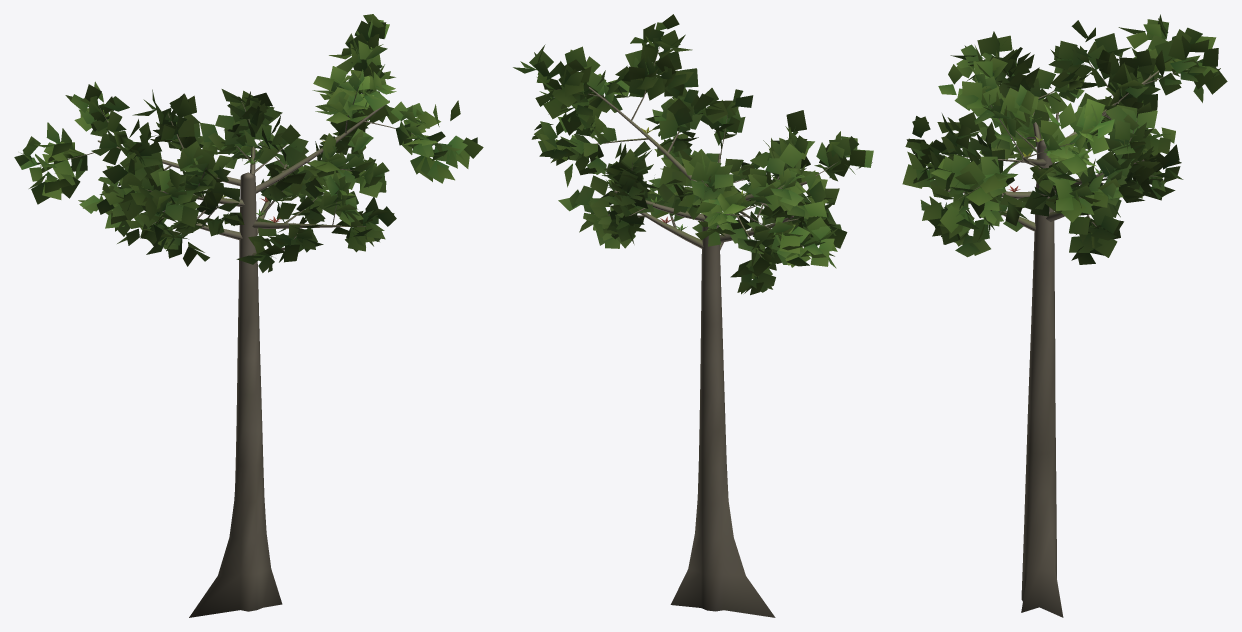
File: emergent-b.lod1.glb
The picture shows the model from 3 angles, left to right: view 1: azimuth 30°, elevation 25°; view 2: azimuth 150°, elevation 25°; view 3: azimuth 270°, elevation 25°; orthographic projection. The views are drawn at different scales.
Size of the model in its own units: 14.2 by 19.65 by 9.99.
